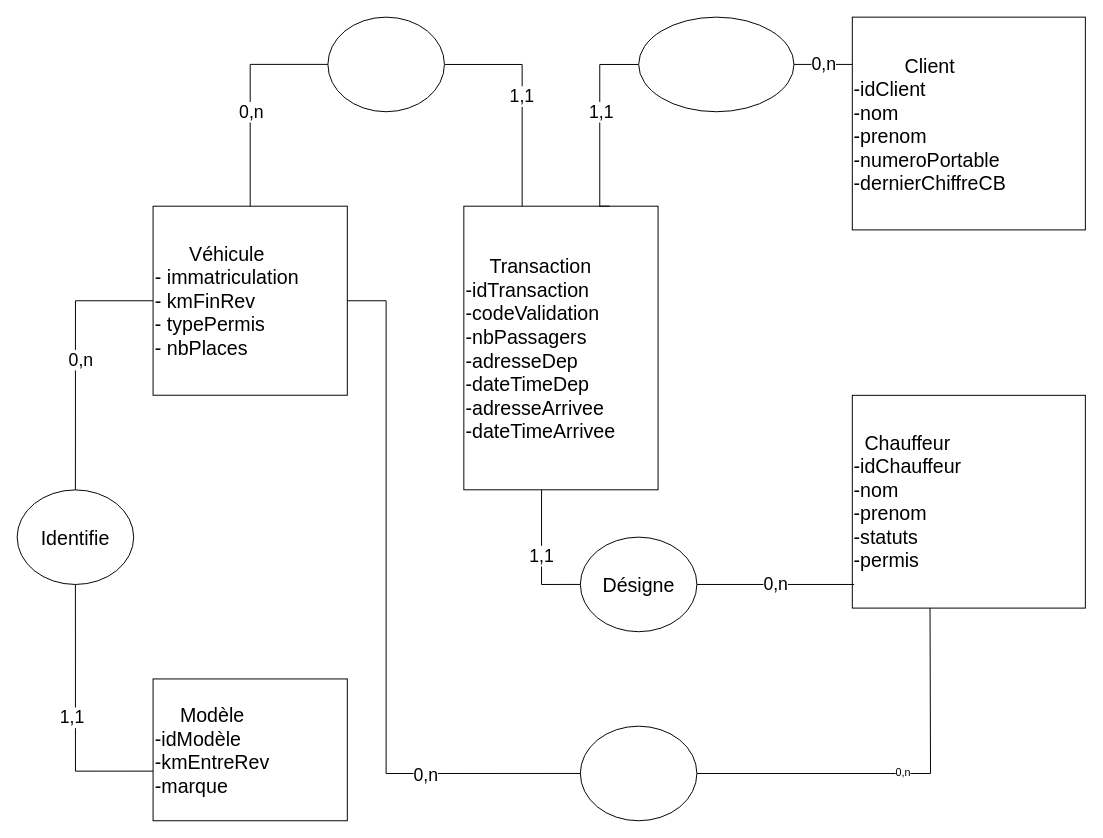
This 1103x838 diagram has some shape labels left out. The shapes that lost their labels are listed below. From the top down, each one's centre as x and y in pixels, then its label:
(385,64): Affecte
(716,64): Corresponds
(638,773): Conduire
